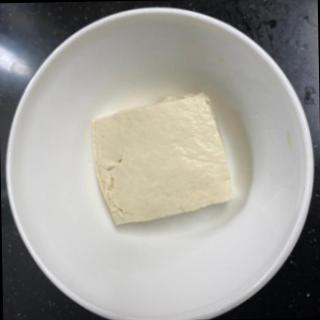Tahu: (93, 93, 235, 226)
